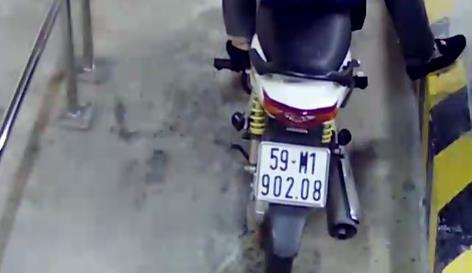lisence: (255, 140, 329, 208)
